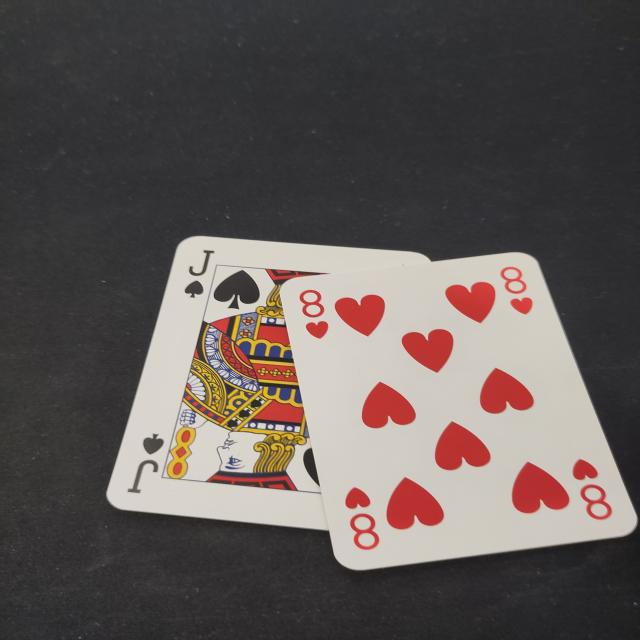8h: (564, 451, 621, 531), (338, 481, 385, 556), (291, 281, 338, 350), (493, 261, 544, 324)
Js: (118, 427, 178, 502), (173, 243, 224, 310)
